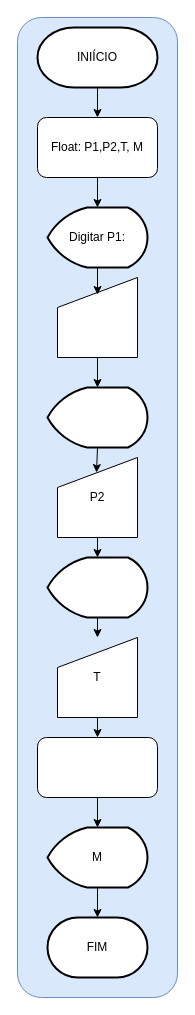
This 195x1015 diagram has some shape labels left out. Here are the shapes that lost their labels. From the top down, the centre of each, then its label:
At pixel 97 317: "P1".
At pixel 97 417: "Digitar P2:".
At pixel 97 587: "Digitar T:".
At pixel 97 767: "M = (P1 + P2 + T) / 3".
